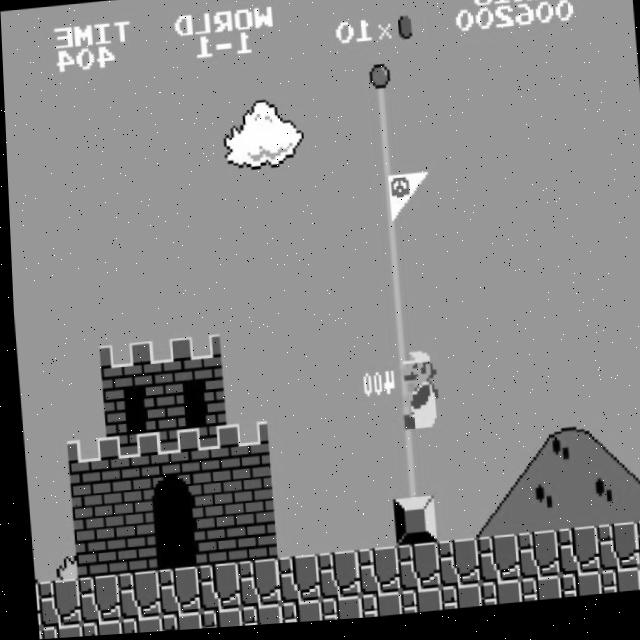1- brick_block: (108, 526, 152, 575)
17- undestructible_block: (590, 529, 635, 579), (350, 550, 395, 600), (550, 533, 595, 582), (510, 537, 555, 586), (470, 540, 515, 589), (430, 544, 475, 593), (390, 547, 435, 596), (310, 554, 355, 603), (31, 578, 76, 627), (191, 564, 235, 614), (271, 558, 315, 607), (231, 561, 275, 610), (151, 568, 195, 617), (111, 572, 155, 621), (71, 575, 115, 624), (553, 578, 596, 605), (393, 592, 436, 619), (593, 575, 636, 601), (513, 582, 556, 608), (473, 586, 516, 612), (433, 589, 476, 615), (354, 596, 397, 622), (314, 599, 356, 625), (274, 603, 316, 627), (234, 606, 276, 629), (194, 610, 236, 631), (154, 613, 196, 633), (114, 617, 156, 635), (74, 620, 116, 637), (34, 623, 76, 639), (631, 526, 640, 575), (29, 581, 36, 628), (634, 572, 640, 598), (32, 627, 36, 639)
4- fire_mario: (394, 346, 444, 443)
7- goal_pole: (355, 45, 400, 95), (371, 273, 416, 323), (384, 455, 429, 505), (358, 91, 403, 140), (365, 182, 410, 231), (368, 228, 413, 277), (374, 319, 419, 368), (377, 365, 422, 414), (362, 137, 406, 185), (381, 410, 425, 458)
9- hard_block: (387, 501, 432, 550)
